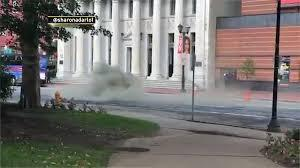smoke: (69, 59, 151, 110)
